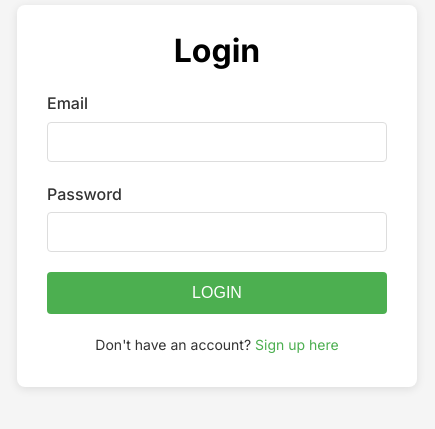
LoginPage › displays error on failed login
Type "test@example.com" into the field labelled "Email". click: (217, 142)
box: 47,122 -> 387,162
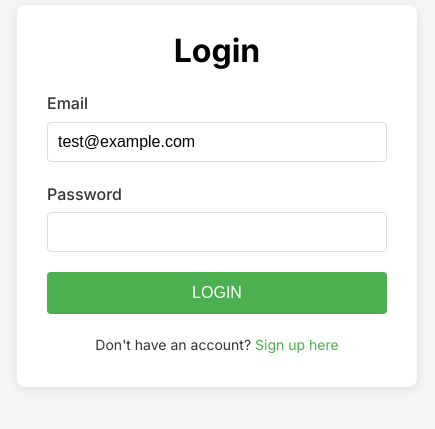
Type "wrongpassword" into the password field labelled "Password". click: (217, 232)
box: 47,212 -> 387,252
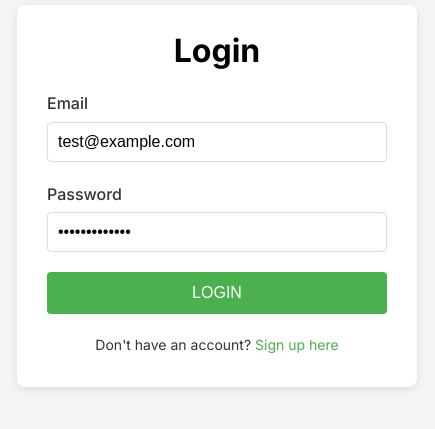
Click the button "Login". click: (217, 293)
box: 47,272 -> 387,314
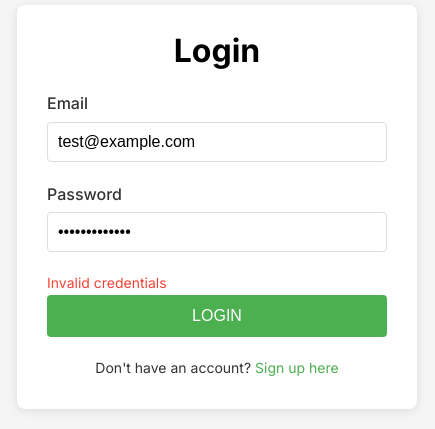
Expected: the text "Invalid credentials" is shown, 47,274 -> 167,291
